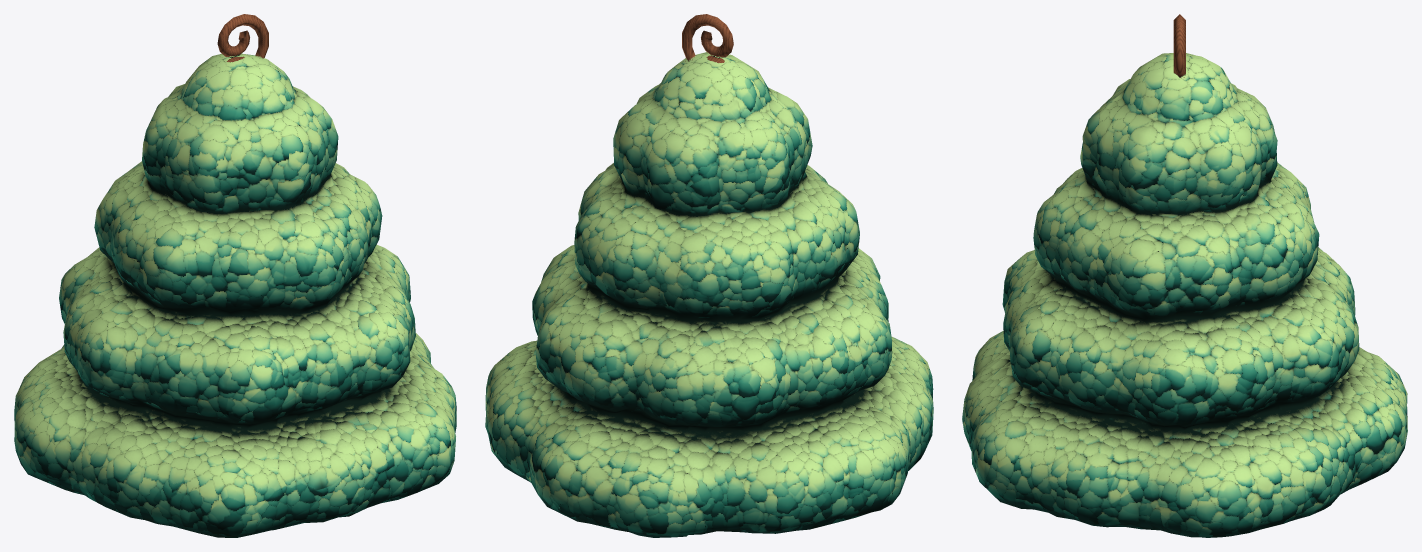
Rendered from tiered_fir.glb.
3 renders of one model, left to right at view 1: azimuth 30°, elevation 25°; view 2: azimuth 150°, elevation 25°; view 3: azimuth 270°, elevation 25°, orthographic.
Visible parts, largest first — view 1: tiered_fir; view 2: tiered_fir; view 3: tiered_fir.
Part boxes in pixels (x1,y1,x2,y2): tiered_fir: [14, 14, 456, 537]; tiered_fir: [485, 14, 933, 537]; tiered_fir: [962, 14, 1407, 537].
Bounding box in the file's own units: 3.53 × 3.89 × 3.41.
1 material, 1 textured.
